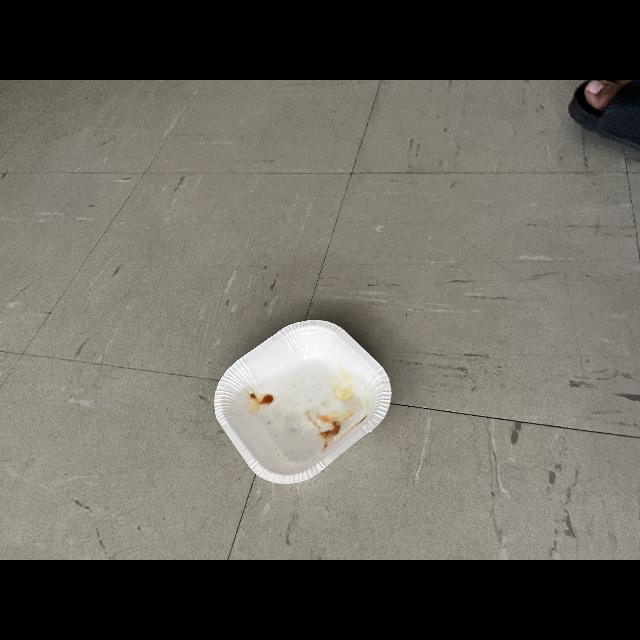cardboard_bowl: (213, 311, 397, 487)
